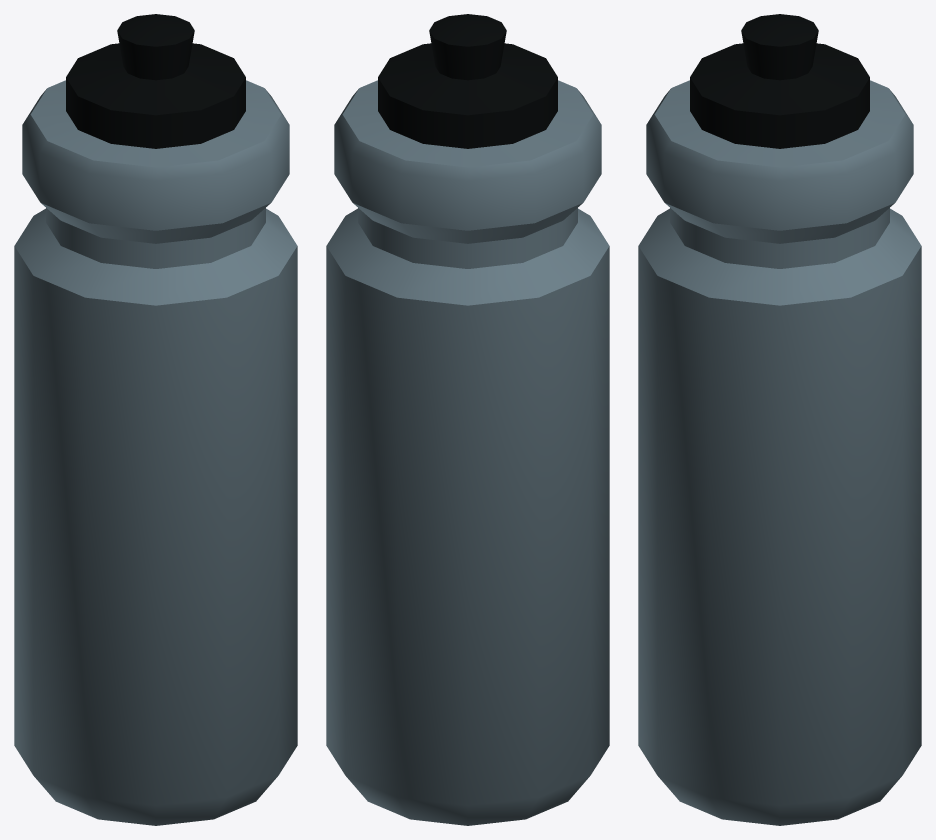
File: waterbottle.obj
3 views of the same model, side by side, from view 1: azimuth 30°, elevation 25°; view 2: azimuth 150°, elevation 25°; view 3: azimuth 270°, elevation 25° (orthographic).
Parts seen in each view (by area): view 1: waterbottle_Cylinder.107; view 2: waterbottle_Cylinder.107; view 3: waterbottle_Cylinder.107.
Part boxes in pixels (x1,y1,x2,y2): waterbottle_Cylinder.107: (14,14,297,825); waterbottle_Cylinder.107: (326,14,609,825); waterbottle_Cylinder.107: (638,14,921,825).
Bounding box in the file's own units: 0.2164 × 0.6369 × 0.2163.
